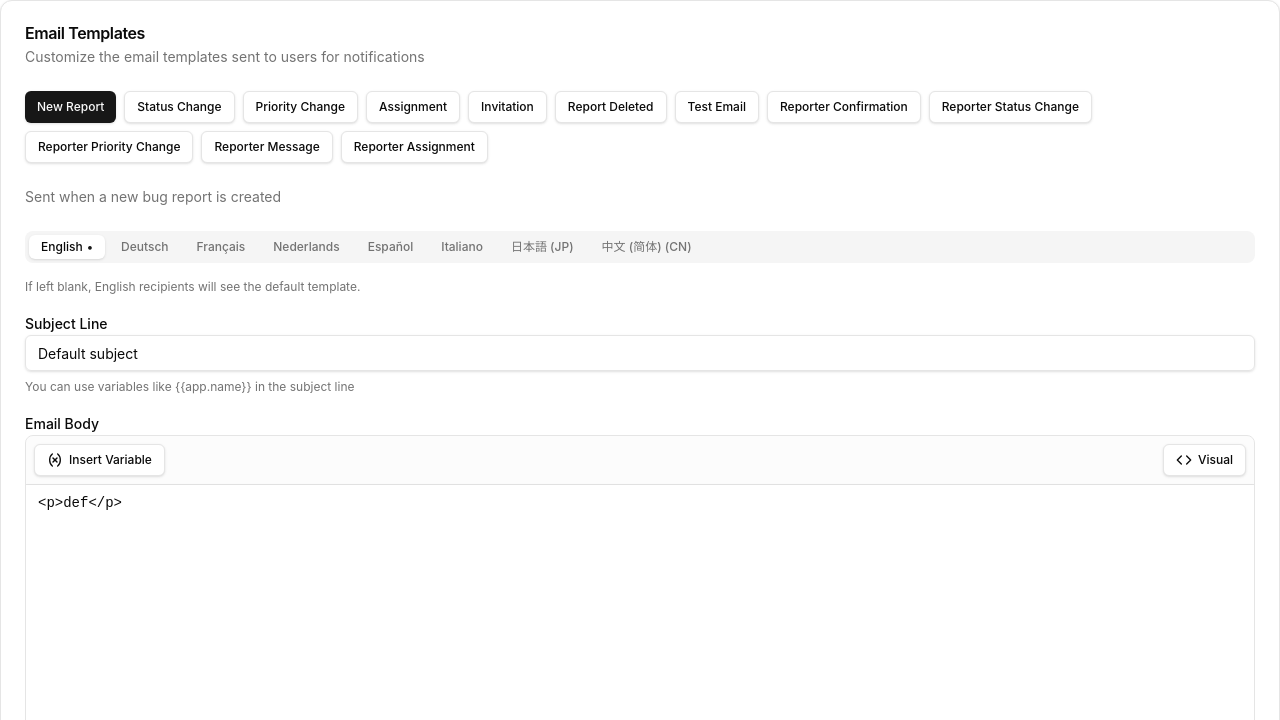
EmailTemplates › renders locale tabs and shows the empty-state hint for non-en tabs
Check: the tab "English •" is shown, box left=29, top=235, right=105, bottom=259
Check: the tab "Français" is shown, box left=184, top=235, right=257, bottom=259
Click the tab "Deutsch" at (145, 247), box left=109, top=235, right=180, bottom=259
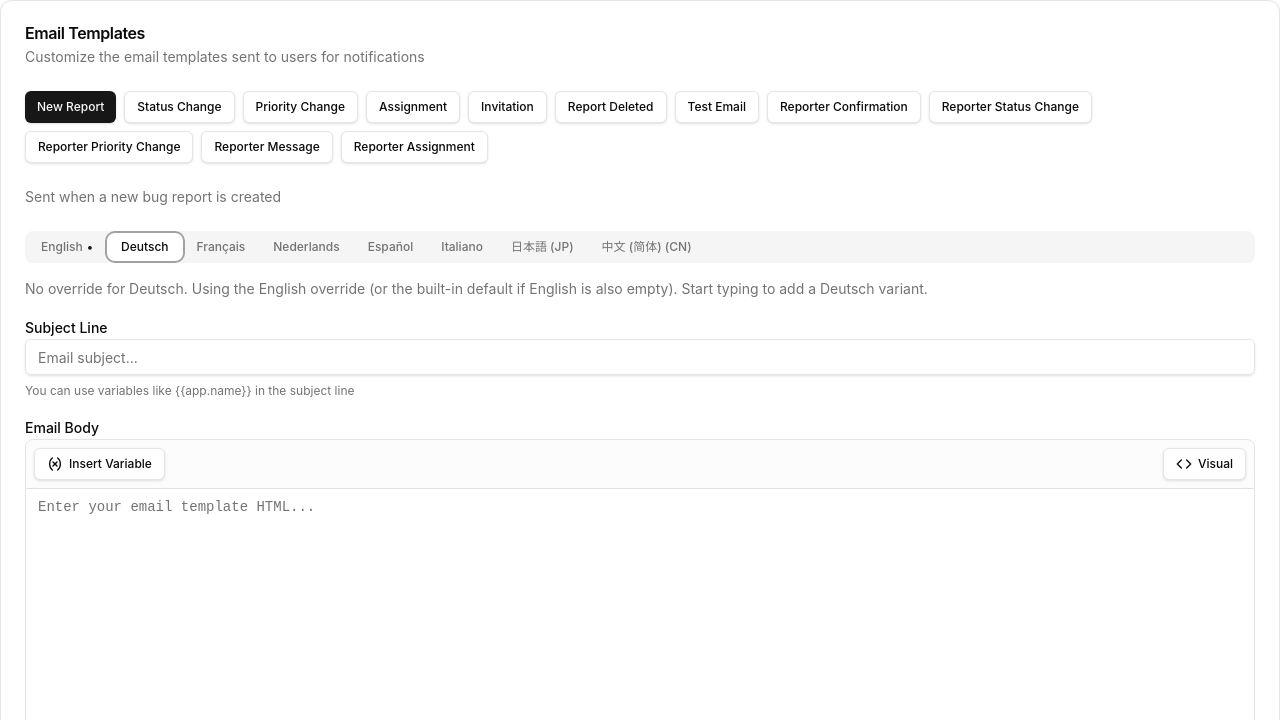
Check: the text "No override for Deutsch" is shown, box left=25, top=280, right=928, bottom=297
